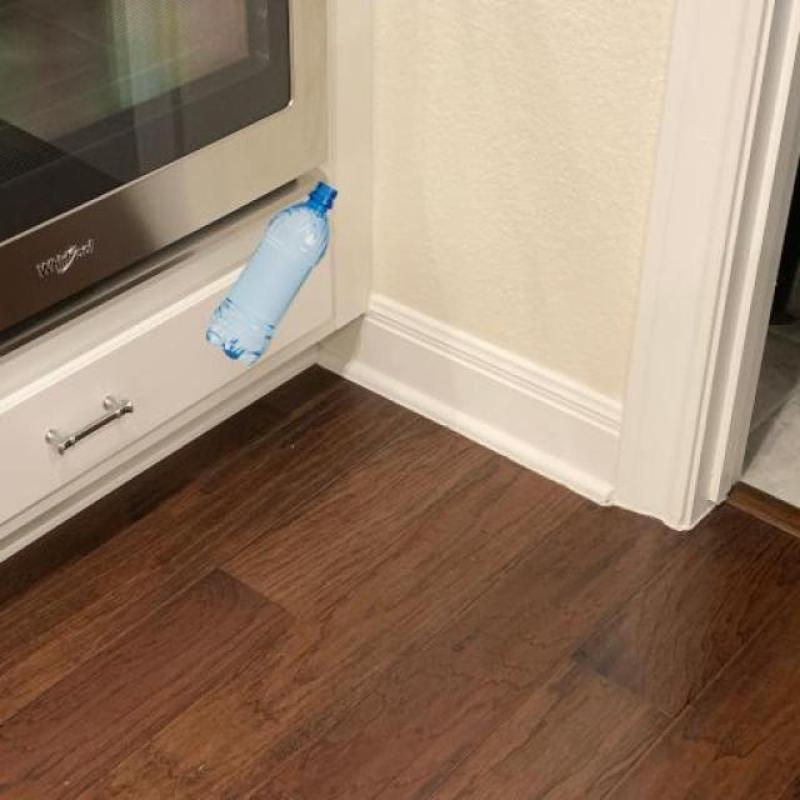botella: (208, 184, 338, 364)
